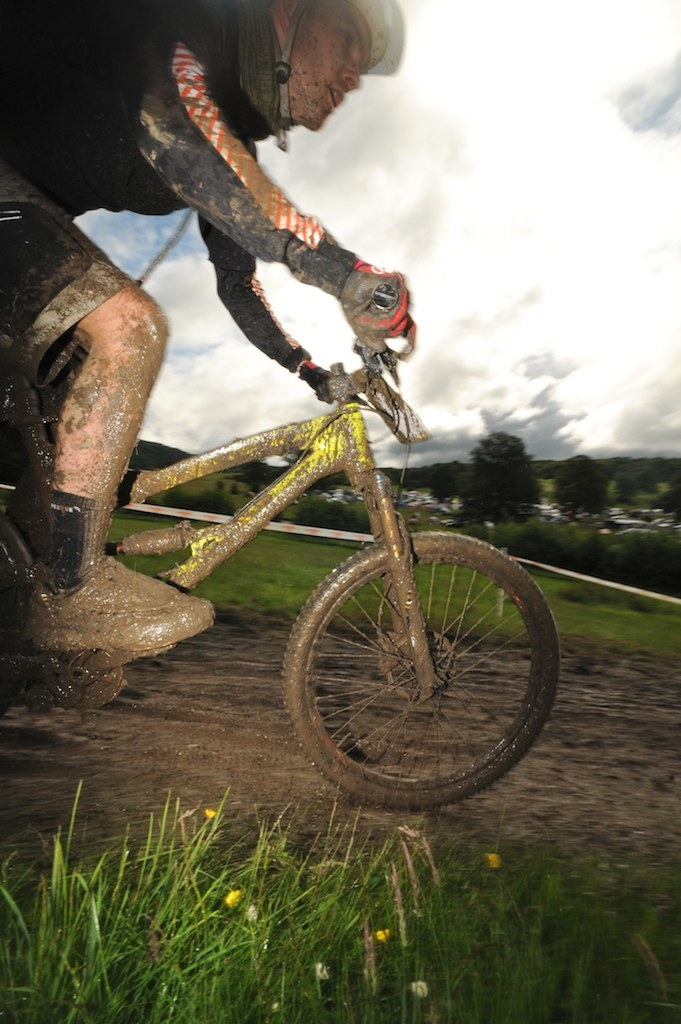Bike_away: (12, 277, 565, 814)
